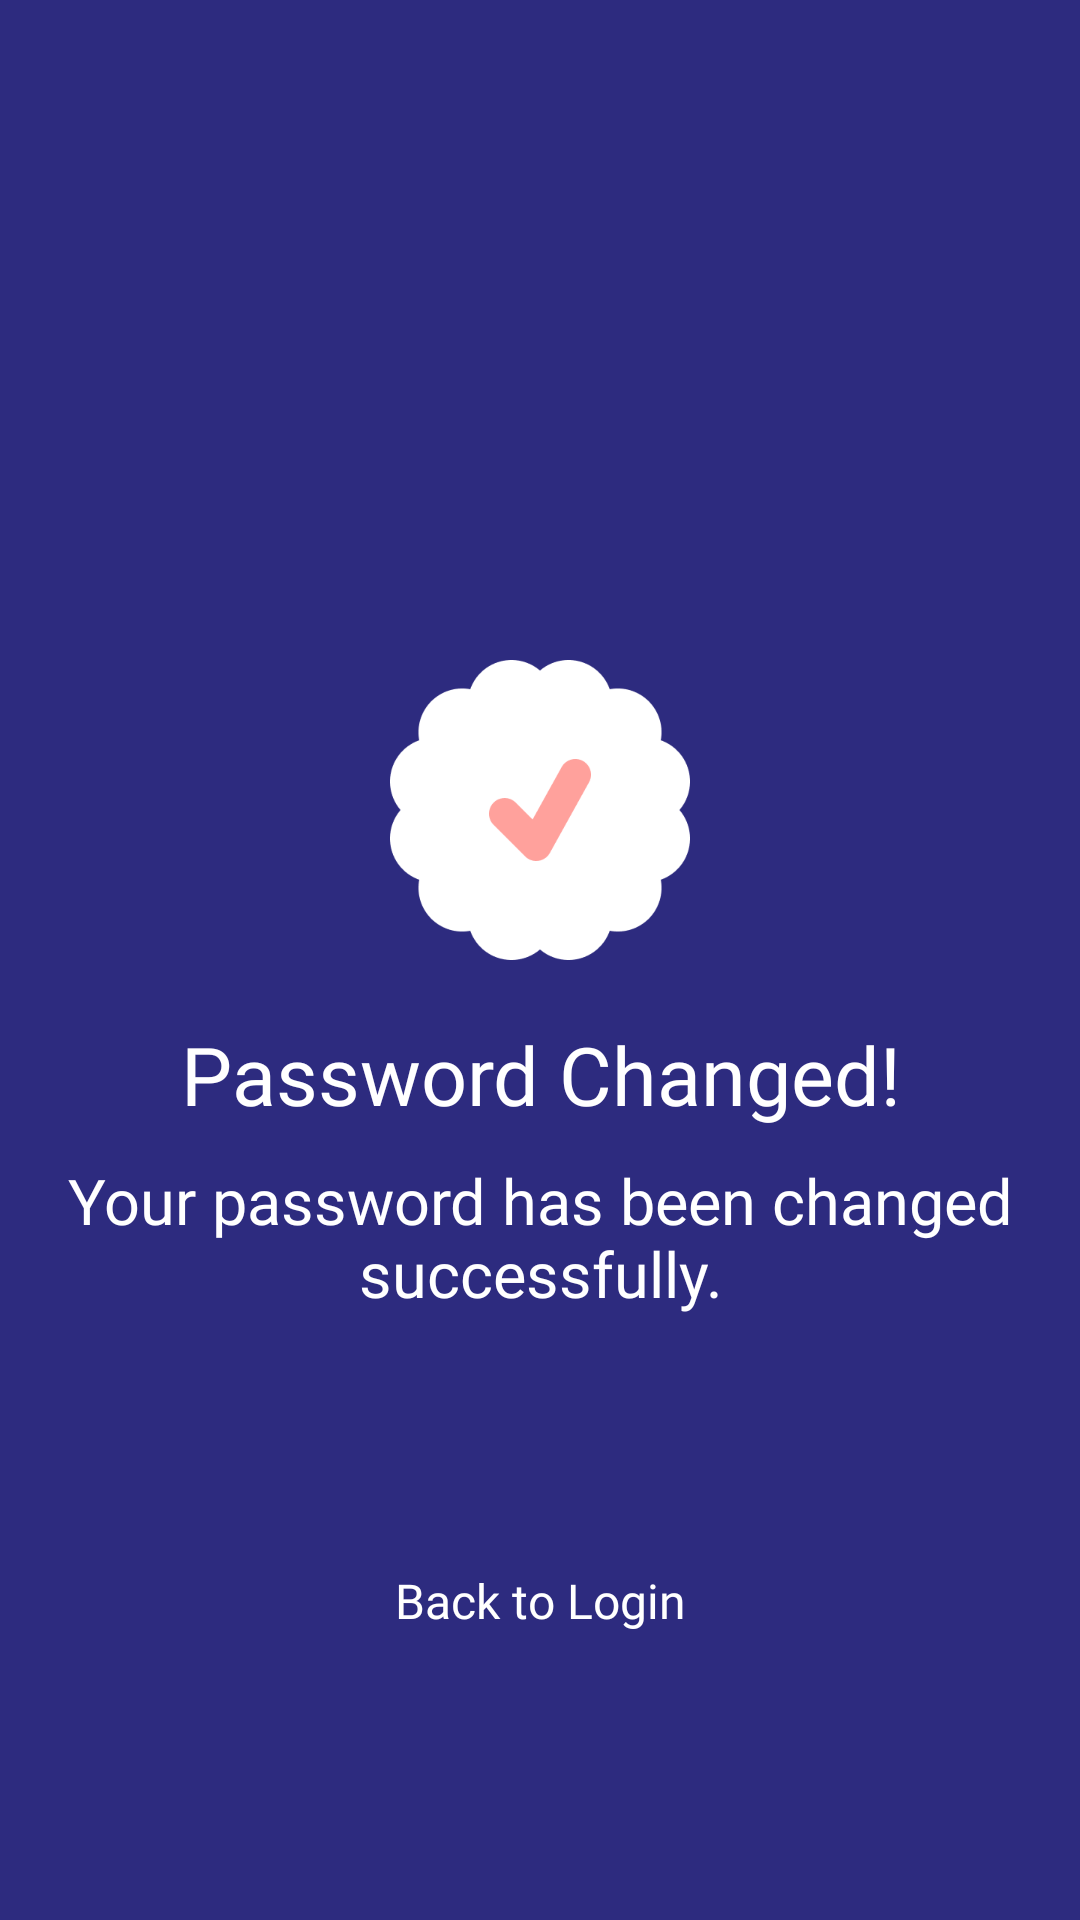

Screen size 1080w x 1920h. Icon name, then its center in pixels as (x,y):
success mark: (540,810)
